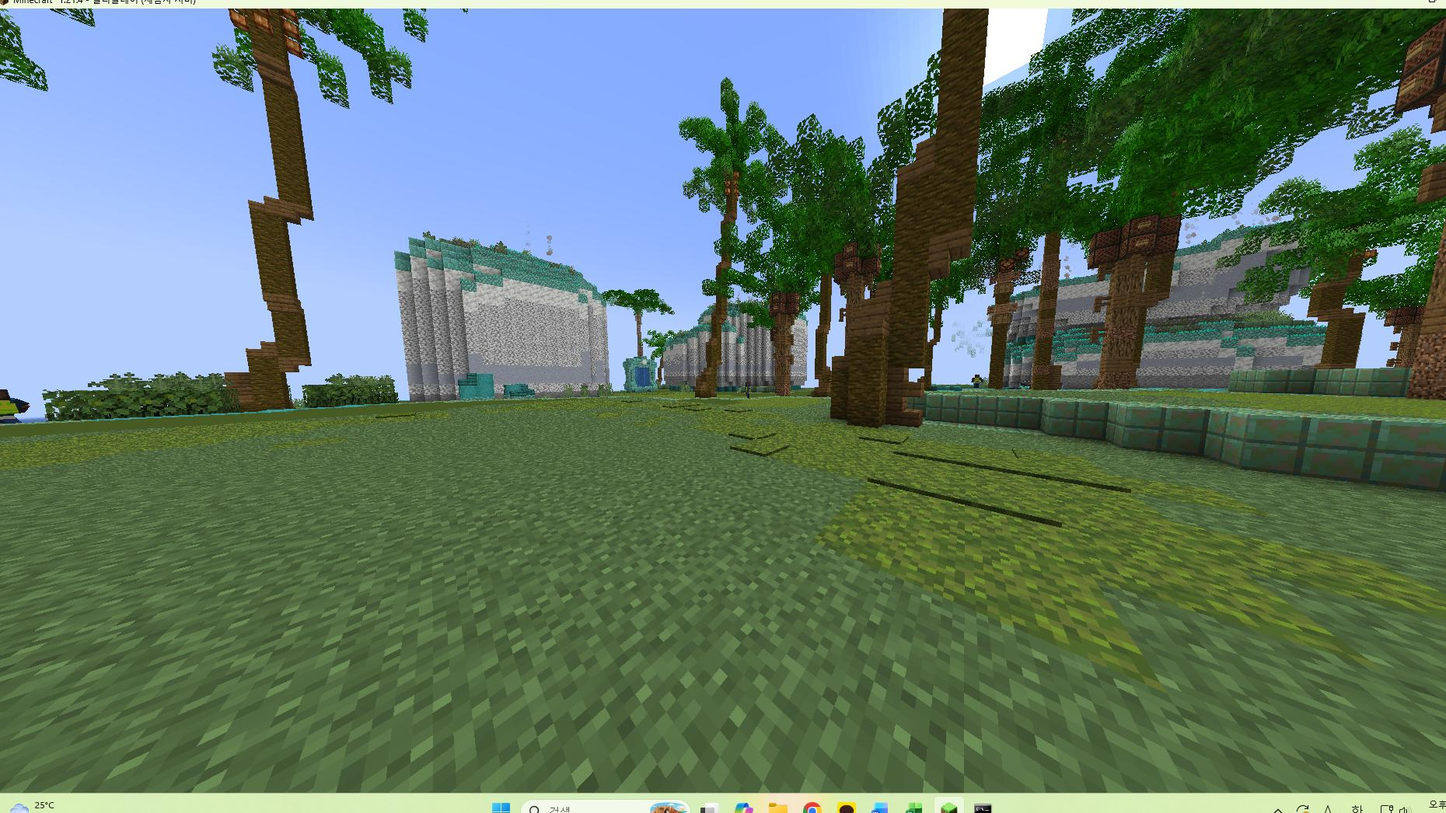Guardian: (743, 382, 753, 400), (972, 374, 983, 388)
